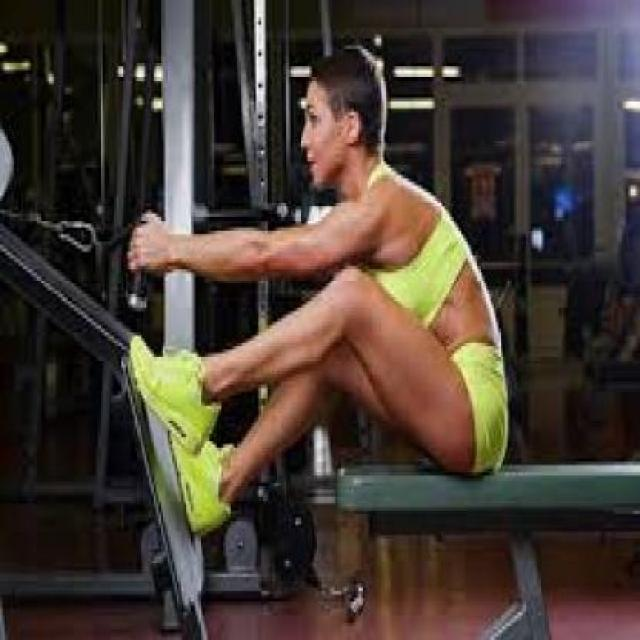Seated Cable Rows: (0, 6, 640, 631)
